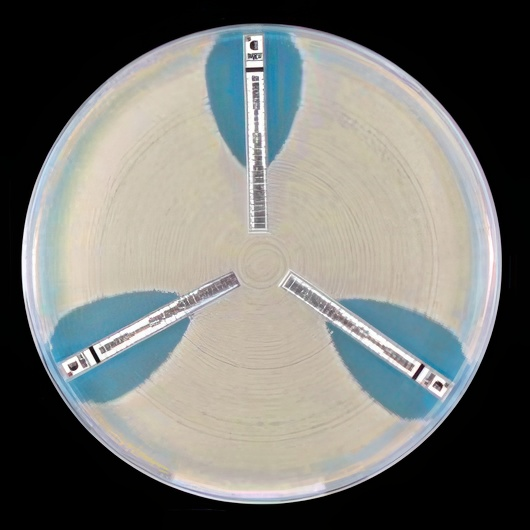line: (276, 268, 457, 403), (57, 269, 244, 383), (243, 31, 270, 233)
zone: (305, 271, 487, 439), (32, 265, 206, 419), (204, 26, 305, 166)
